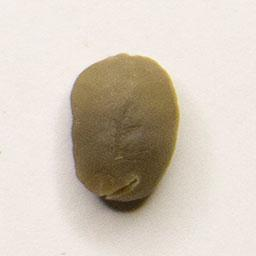peaberry: (65, 48, 185, 209)
